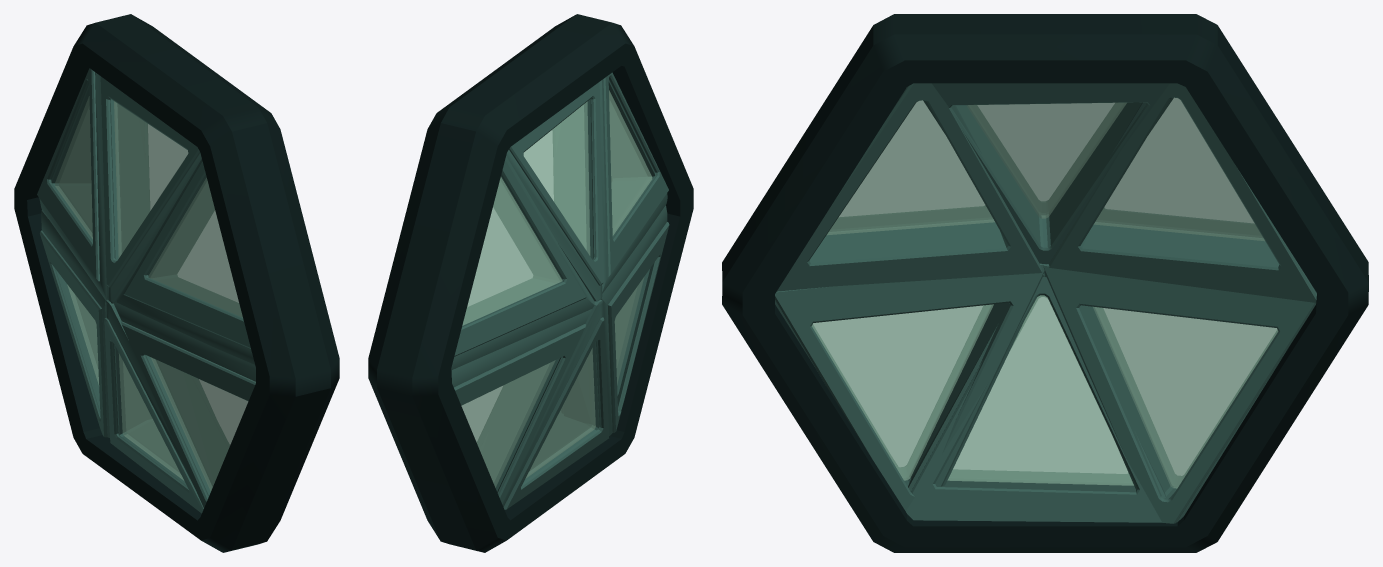
The model's file is hexagon gate door.fbx.
3 renders of one model, left to right at view 1: azimuth 30°, elevation 25°; view 2: azimuth 150°, elevation 25°; view 3: azimuth 270°, elevation 25°, orthographic. The views are drawn at different scales.
Visible parts, largest first — view 1: polySurface1864; view 2: polySurface1864; view 3: polySurface1864.
Boxes of the visible parts, <box> form: polySurface1864: <box>14,14,339,552</box>; polySurface1864: <box>368,14,693,552</box>; polySurface1864: <box>722,14,1368,552</box>.
Size of the model in its own units: 34.67 by 135 by 152.
